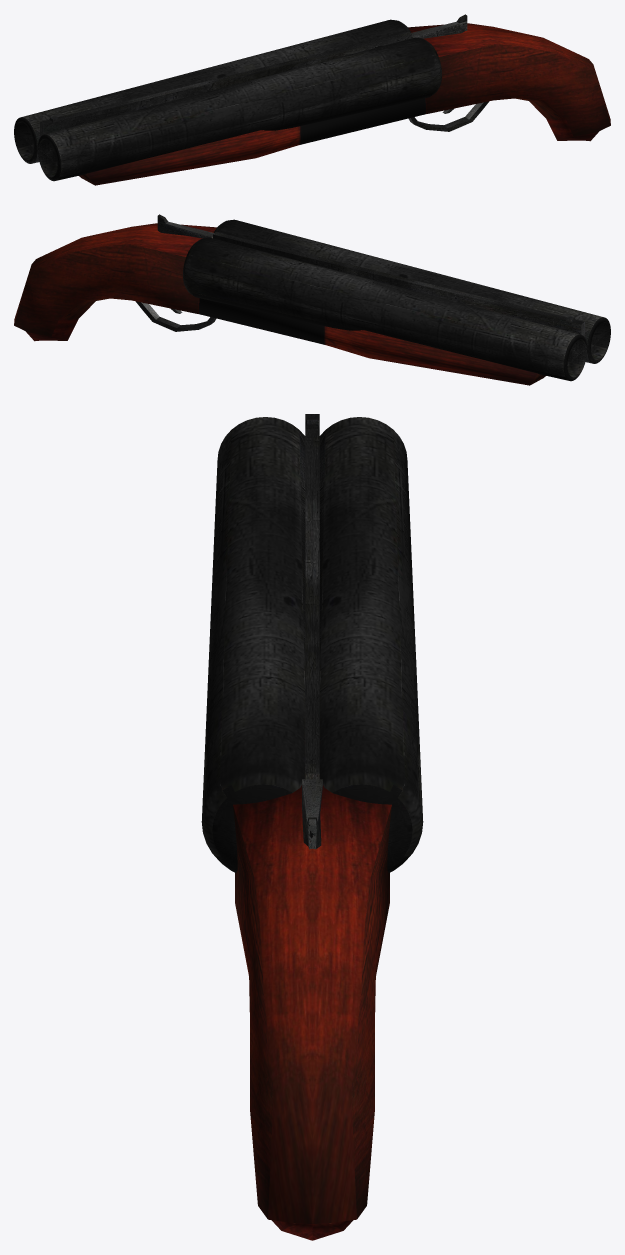
The model's file is ShotgunModel8.fbx.
3 renders of one model, top to bottom at view 1: azimuth 30°, elevation 25°; view 2: azimuth 150°, elevation 25°; view 3: azimuth 270°, elevation 25°, orthographic. The views are drawn at different scales.
Visible parts, largest first — view 1: Barells, Cube.002, Cube.001, Cube, Cube.003, Cube.004; view 2: Barells, Cube.002, Cube.001, Cube, Cube.003, Cube.004; view 3: Barells, Cube.002, Cube, Cube.004.
Boxes of the visible parts, bbox=[...] form: Barells: bbox=[14, 19, 441, 181]; Cube.002: bbox=[408, 23, 610, 141]; Cube.001: bbox=[79, 98, 425, 185]; Cube: bbox=[40, 32, 411, 136]; Cube.003: bbox=[408, 101, 488, 131]; Cube.004: bbox=[410, 14, 467, 38]; Barells: bbox=[183, 219, 610, 381]; Cube.002: bbox=[14, 223, 216, 341]; Cube.001: bbox=[199, 298, 545, 385]; Cube: bbox=[213, 232, 584, 336]; Cube.003: bbox=[136, 301, 216, 331]; Cube.004: bbox=[157, 214, 214, 238]; Barells: bbox=[201, 417, 423, 872]; Cube.002: bbox=[233, 785, 391, 1240]; Cube: bbox=[305, 414, 319, 779]; Cube.004: bbox=[302, 779, 322, 849].
Size of the model in its own units: 285 by 73.4 by 47.84.
Materials: 5 (5 with a texture image).
